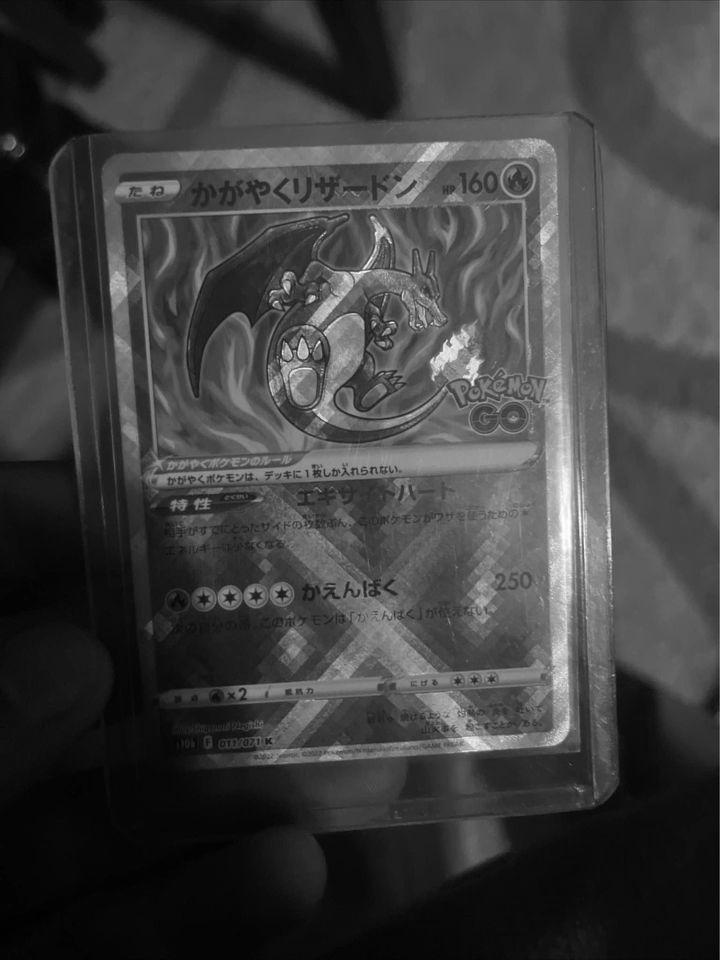card: (101, 136, 571, 776)
